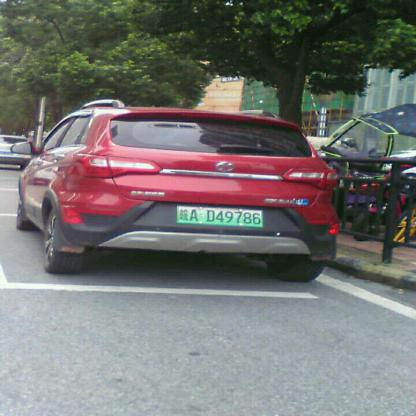lp: (177, 203, 264, 227)
